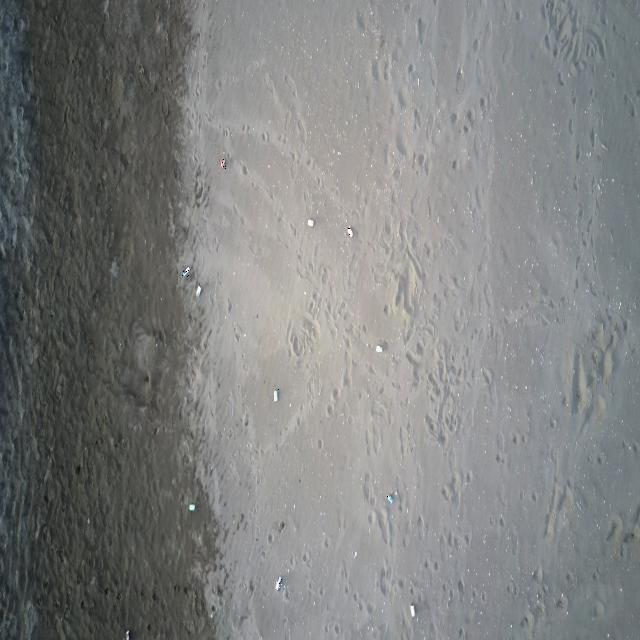tin-and-aluminum-cans: (275, 575, 282, 591), (346, 226, 354, 239), (182, 267, 191, 278), (375, 343, 384, 354), (273, 389, 279, 404), (387, 493, 394, 505), (124, 630, 132, 640), (410, 602, 415, 618), (196, 285, 202, 298), (220, 157, 226, 169), (306, 218, 315, 226), (188, 504, 195, 514)
